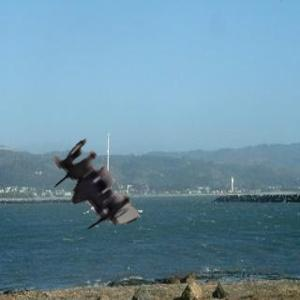drone: (31, 121, 158, 248)
